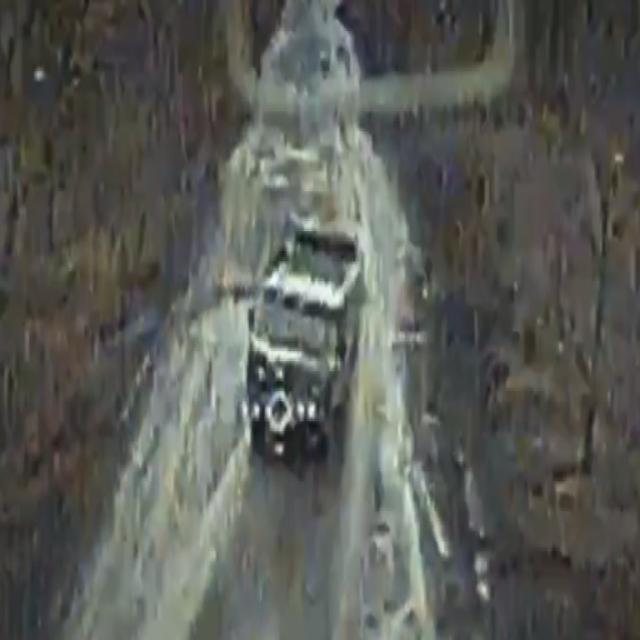CAR: (239, 219, 361, 469)
